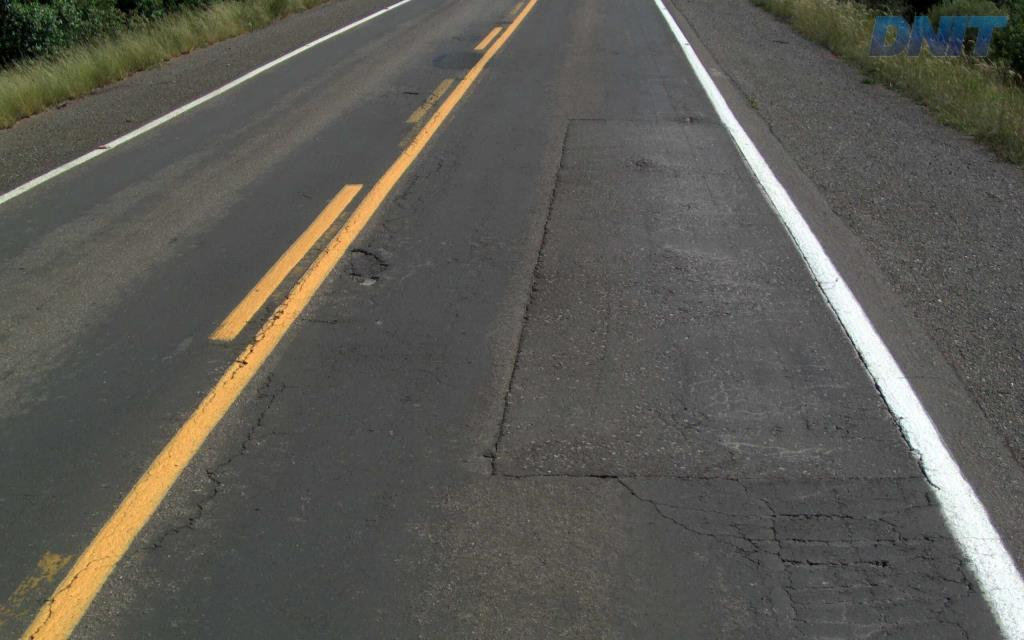crack: (494, 325, 525, 452), (532, 173, 561, 279), (728, 521, 762, 569)
